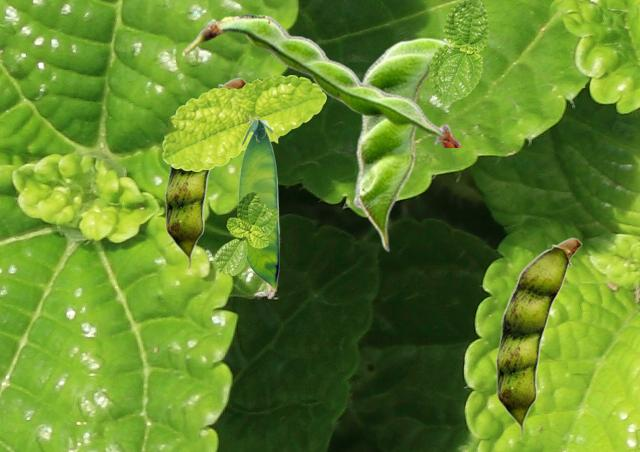pea: (182, 14, 461, 146), (352, 37, 447, 251), (496, 237, 581, 438), (165, 77, 246, 269), (238, 120, 278, 289)
